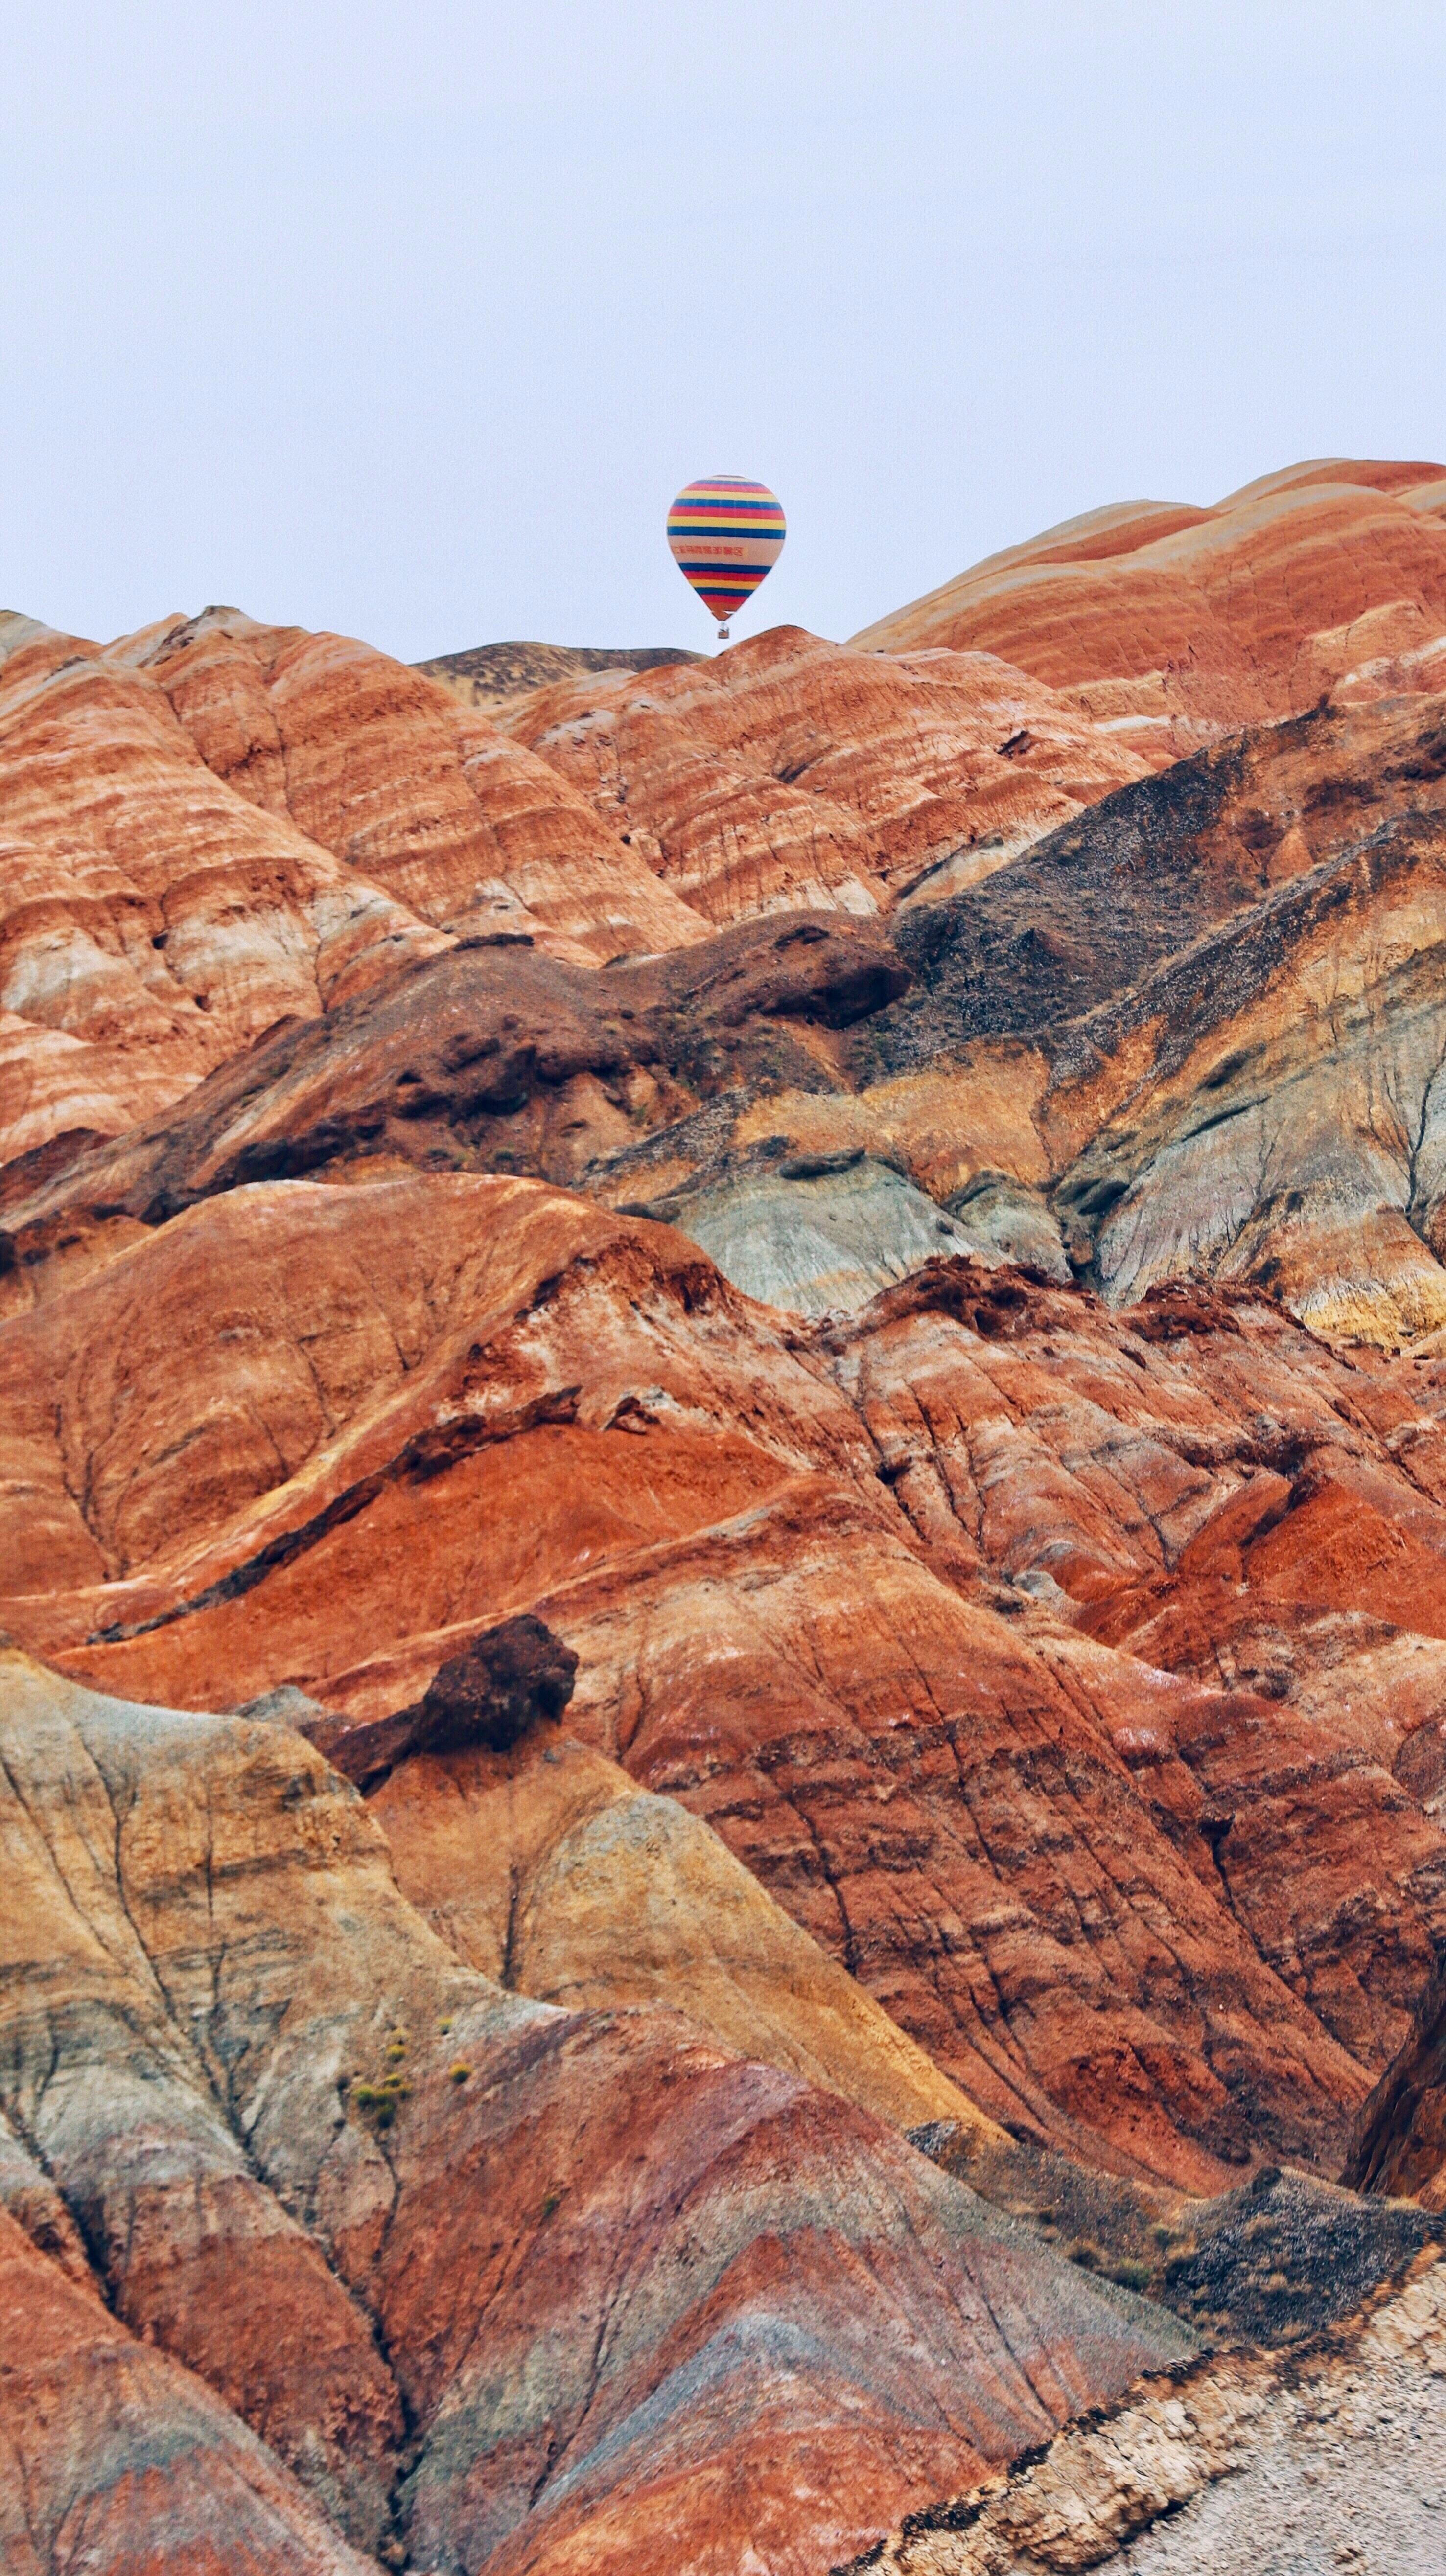hot air ballon: (665, 474, 786, 639)
